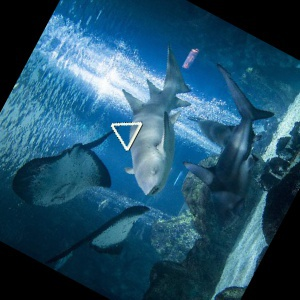triangle: (109, 120, 143, 153)
